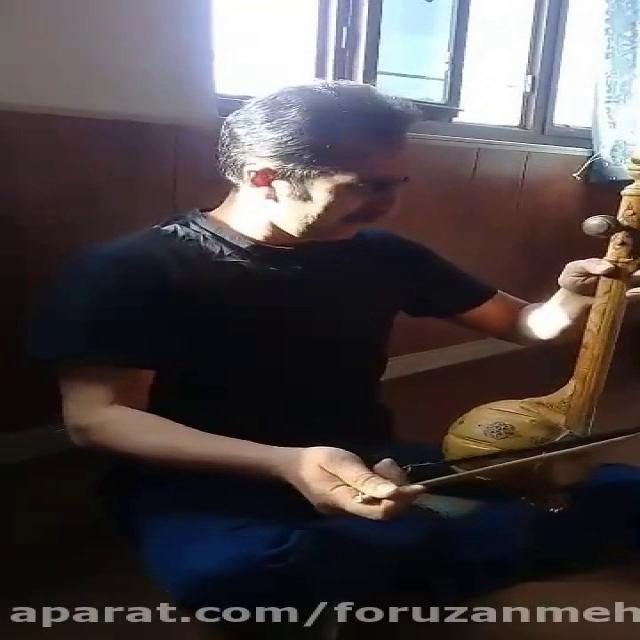Kamanche: (426, 156, 640, 528)
